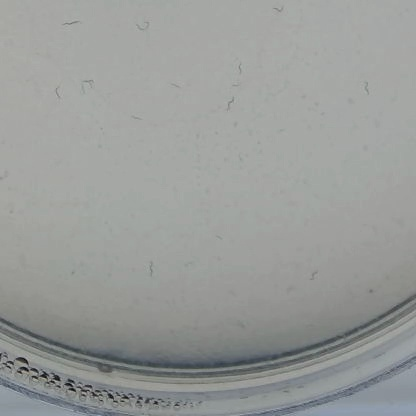worm: (143, 257, 158, 282), (78, 76, 97, 95), (59, 14, 85, 27), (136, 19, 156, 35), (222, 96, 239, 113), (50, 83, 66, 101), (128, 110, 147, 124), (270, 4, 290, 17), (308, 266, 319, 287), (284, 276, 295, 296), (359, 80, 373, 95), (166, 80, 185, 91), (235, 57, 244, 75), (214, 233, 226, 244), (0, 170, 10, 181), (229, 81, 244, 88), (182, 259, 193, 267)
